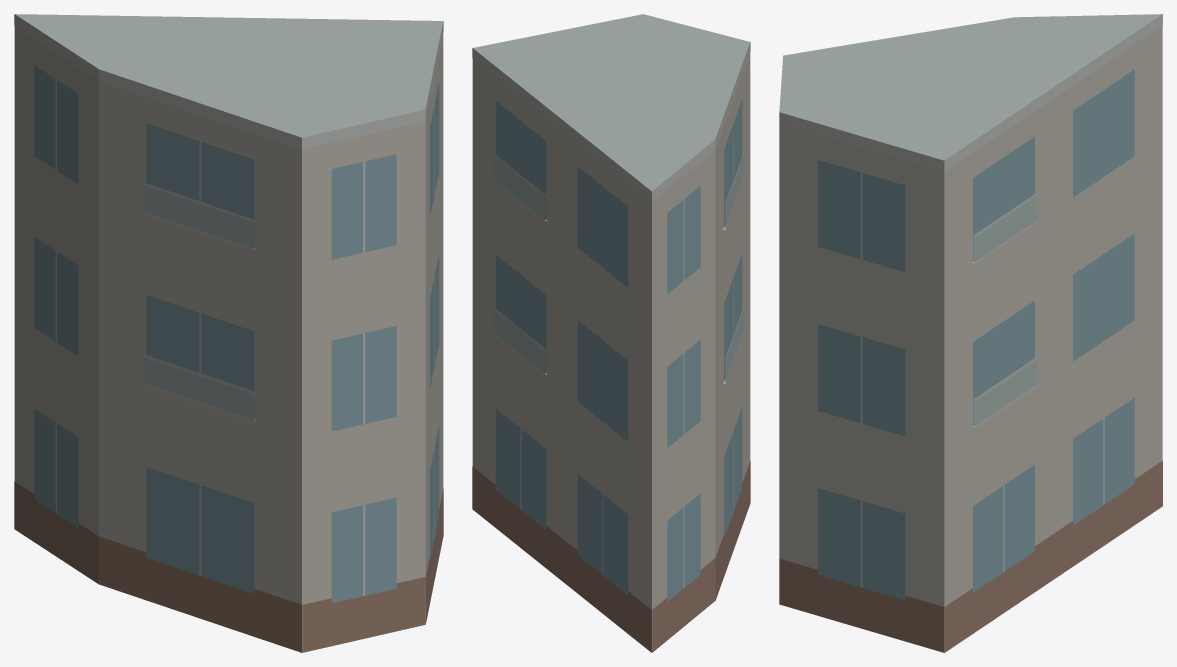
Rendered from survey-upis-32983653.glb.
3 views of the same model, side by side, from view 1: azimuth 30°, elevation 25°; view 2: azimuth 150°, elevation 25°; view 3: azimuth 270°, elevation 25° (orthographic). The views are drawn at different scales.
Parts seen in each view (by area): view 1: survey-upis-32983653.tmp; view 2: survey-upis-32983653.tmp; view 3: survey-upis-32983653.tmp.
Part boxes in pixels (x1,y1,x2,y2): survey-upis-32983653.tmp: (14,14,443,652); survey-upis-32983653.tmp: (472,14,750,652); survey-upis-32983653.tmp: (779,14,1162,652).
Bounding box in the file's own units: 6.91 × 10.8 × 7.63.
